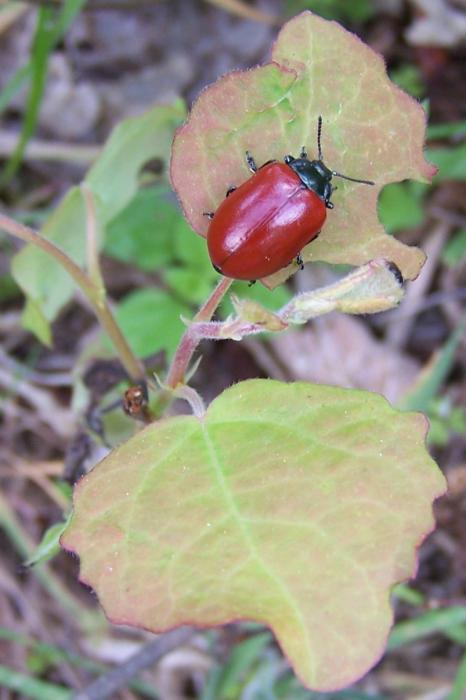Chrysomela_populi: (198, 113, 378, 292)
